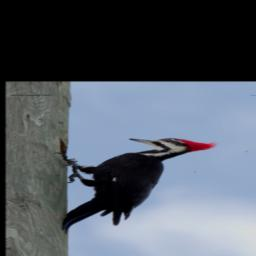Woodpecker: (55, 137, 217, 233)
